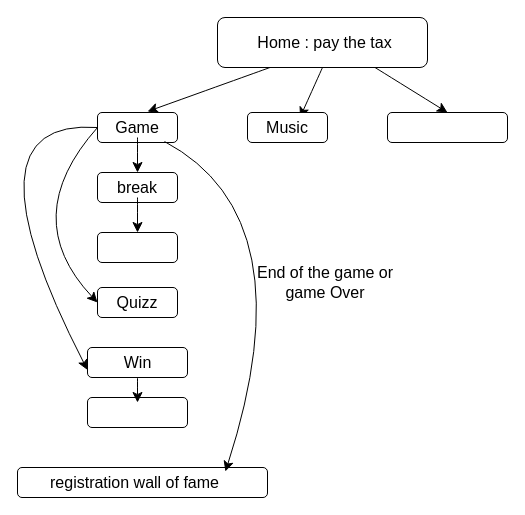
The diagram is 525 pixels wide and 515 high, and some of its shapes have lost their labels. The box of each missing label's shape, as (x1, y1, x2, y2) in pixels:
Next LVL: (86, 396, 188, 428)
tutoriel: (96, 232, 178, 262)
wall of fame: (386, 112, 508, 142)
